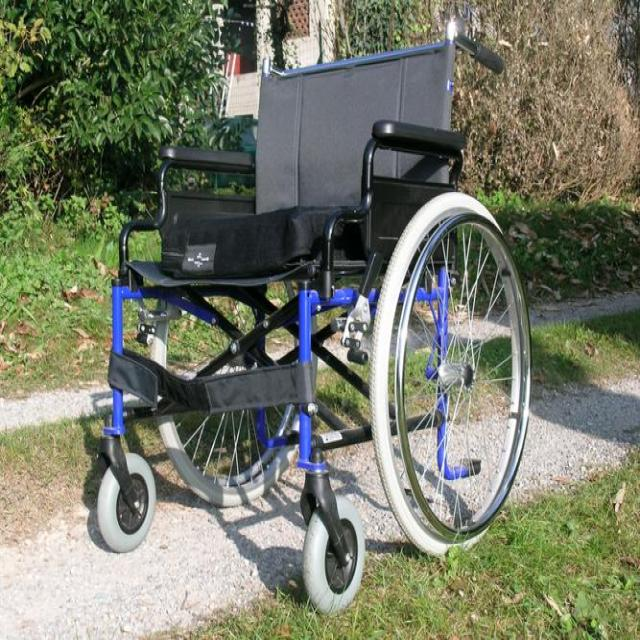wheelchairs: (94, 14, 548, 618)
